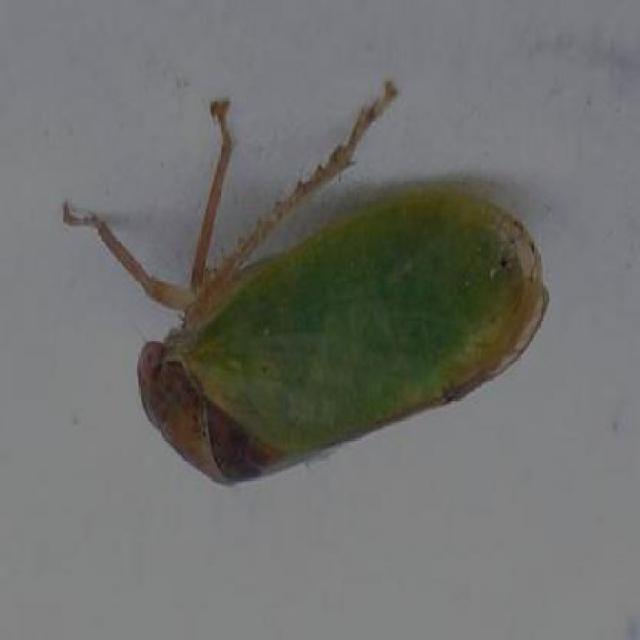green-leafhopper: (122, 166, 548, 488)
